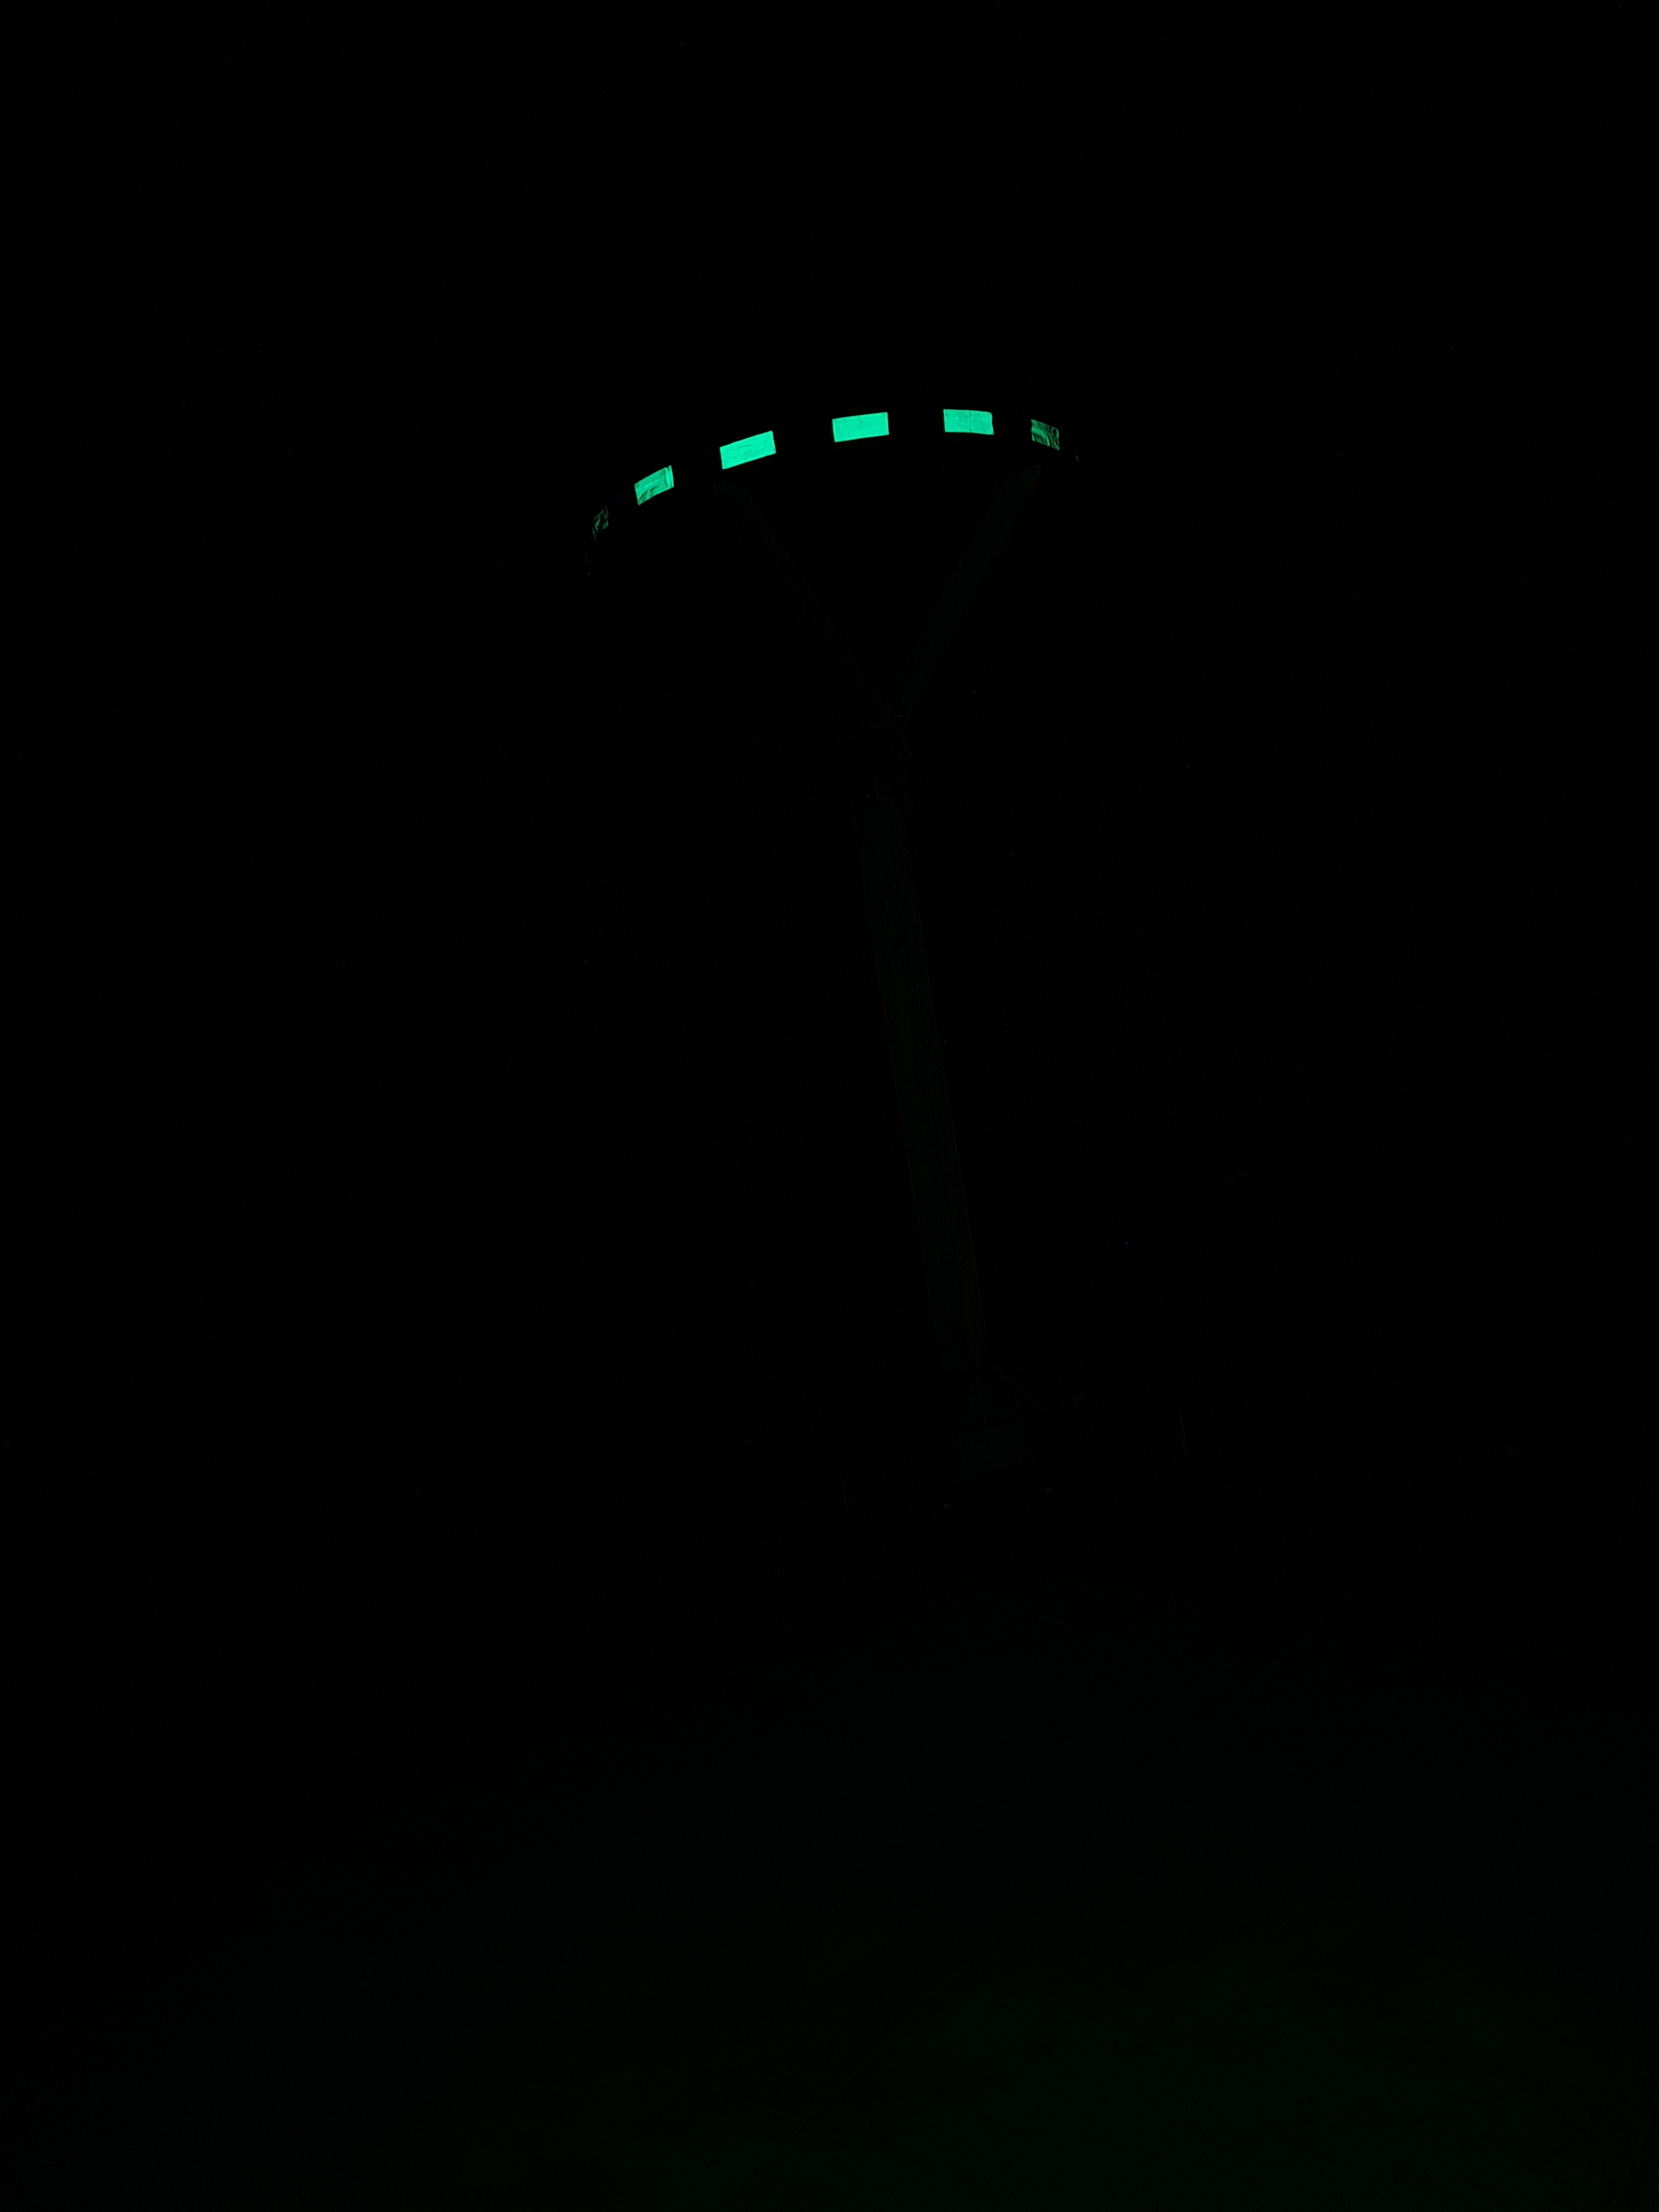hoop: (580, 406, 1068, 542)
